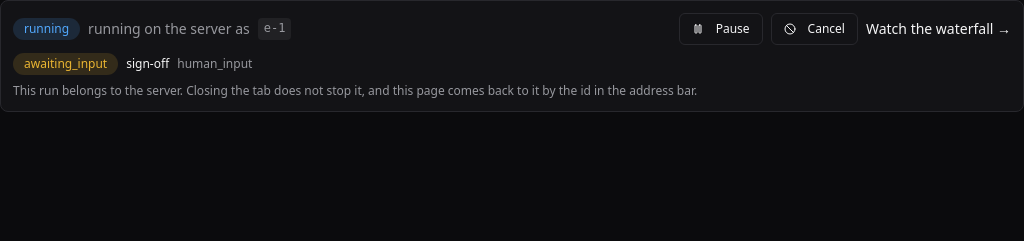
answering a step that is waiting on a person › tells a viewer whose decision this is rather than offering a button that would be refused
Click the button "awaiting_input sign-off human_input". click: (66, 64)
box: top-left (13, 53), bottom-right (1011, 75)
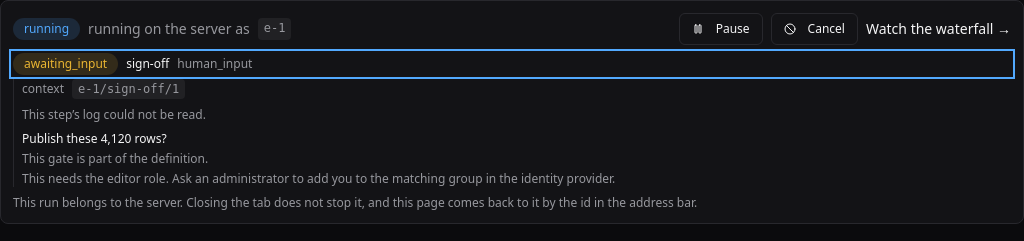
Check: the text "Publish these 4,120 rows?" is shown, box top-left (22, 130), bottom-right (167, 147)
Check: the text "This needs the editor role" is shown, box top-left (22, 170), bottom-right (615, 187)
